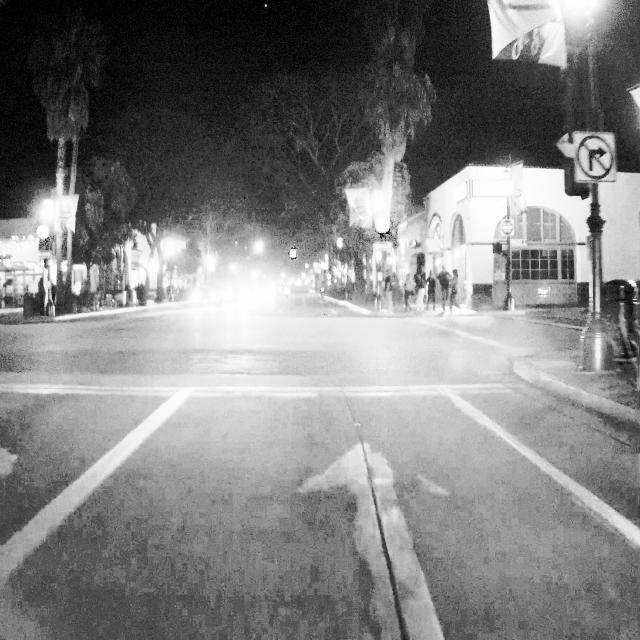Light: (38, 221, 50, 252), (376, 215, 388, 235)
Sign: (573, 132, 618, 183)
